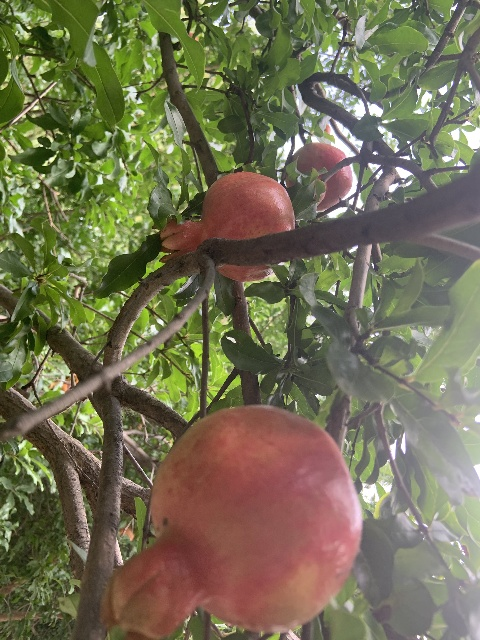ripe: (104, 405, 361, 637), (159, 171, 295, 281), (284, 142, 352, 212)
